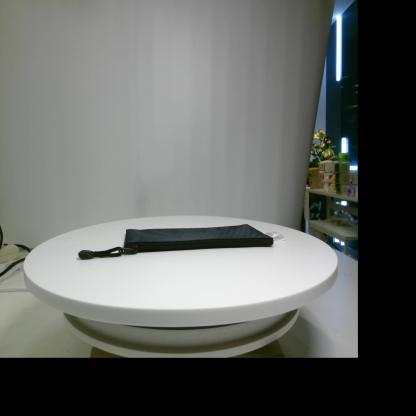Stationery: (78, 224, 286, 260)
